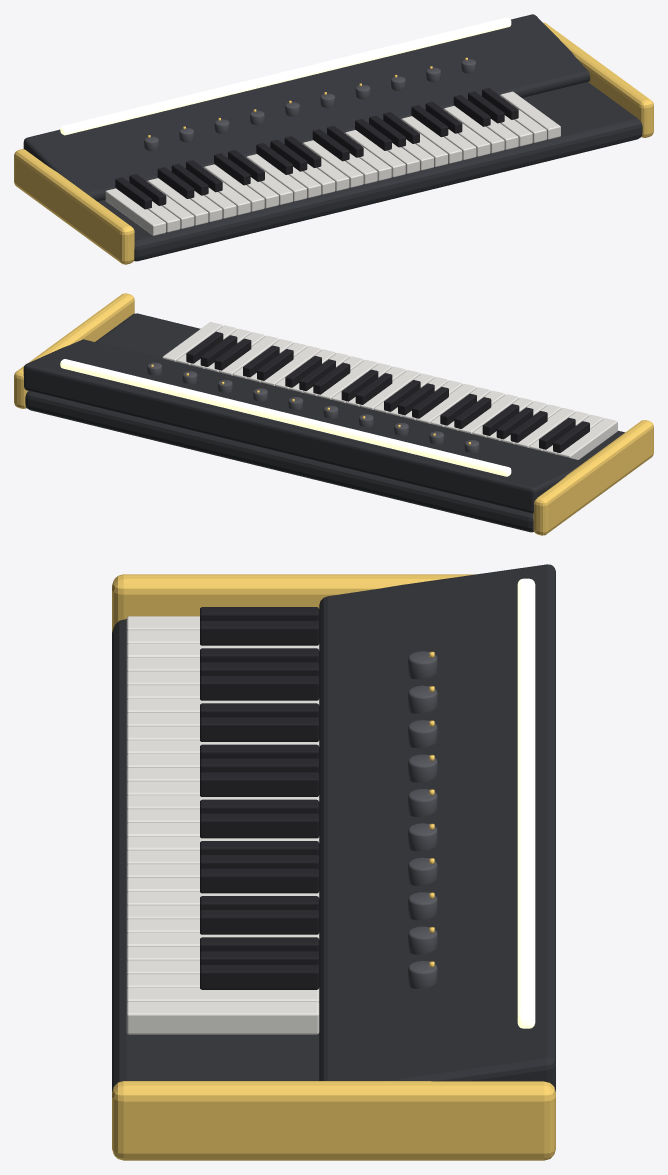
The model's file is Lumen.glb.
3 renders of one model, top to bottom at view 1: azimuth 30°, elevation 25°; view 2: azimuth 150°, elevation 25°; view 3: azimuth 270°, elevation 25°, orthographic. The views are drawn at different scales.
Parts seen in each view (by area): view 1: Lumen_Back, Lumen_Base, Lumen_Cap-1, Lumen_Lightbar, Lumen_Cap1, Lumen_W0, Lumen_W28, Lumen_W3, Lumen_W7, Lumen_W14, Lumen_W17, Lumen_W24 (+42 smaller); view 2: Lumen_Back, Lumen_Base, Lumen_Cap-1, Lumen_Lightbar, Lumen_Cap1, Lumen_W0, Lumen_W28, Lumen_W3, Lumen_W21, Lumen_W24, Lumen_W7, Lumen_W10 (+22 smaller); view 3: Lumen_Back, Lumen_Cap1, Lumen_Base, Lumen_Cap-1, Lumen_Lightbar, Lumen_W28, Lumen_B15, Lumen_B19, Lumen_B1, Lumen_B5, Lumen_B8, Lumen_B12 (+42 smaller).
Part boxes in pixels (left/top/right/bottom): Lumen_Back: left=23, top=14, right=590, bottom=201; Lumen_Base: left=97, top=82, right=642, bottom=261; Lumen_Cap-1: left=14, top=149, right=134, bottom=264; Lumen_Lightbar: left=60, top=17, right=511, bottom=135; Lumen_Cap1: left=543, top=22, right=653, bottom=137; Lumen_W0: left=105, top=188, right=165, bottom=235; Lumen_W28: left=500, top=91, right=560, bottom=139; Lumen_W3: left=147, top=178, right=208, bottom=225; Lumen_W7: left=204, top=164, right=264, bottom=211; Lumen_W14: left=303, top=140, right=363, bottom=187; Lumen_W17: left=345, top=130, right=405, bottom=177; Lumen_W24: left=444, top=105, right=504, bottom=153; Lumen_Back: left=23, top=339, right=584, bottom=513; Lumen_Base: left=25, top=313, right=624, bottom=532; Lumen_Cap-1: left=533, top=420, right=653, bottom=535; Lumen_Lightbar: left=60, top=359, right=511, bottom=476; Lumen_Cap1: left=14, top=293, right=134, bottom=408; Lumen_W0: left=557, top=418, right=617, bottom=459; Lumen_W28: left=162, top=322, right=222, bottom=361; Lumen_W3: left=515, top=408, right=575, bottom=447; Lumen_W21: left=261, top=346, right=321, bottom=385; Lumen_W24: left=219, top=335, right=279, bottom=375; Lumen_W7: left=458, top=394, right=519, bottom=433; Lumen_W10: left=416, top=384, right=476, bottom=423; Lumen_Back: left=319, top=564, right=555, bottom=1091; Lumen_Cap1: left=112, top=1081, right=555, bottom=1160; Lumen_Base: left=112, top=619, right=319, bottom=1091; Lumen_Cap-1: left=112, top=574, right=475, bottom=632; Lumen_Lightbar: left=517, top=578, right=535, bottom=1028; Lumen_W28: left=126, top=1001, right=319, bottom=1034; Lumen_B15: left=200, top=813, right=319, bottom=838; Lumen_B19: left=200, top=868, right=319, bottom=893; Lumen_B1: left=200, top=621, right=319, bottom=645; Lumen_B5: left=200, top=676, right=319, bottom=700; Lumen_B8: left=200, top=717, right=319, bottom=741; Lumen_B12: left=200, top=772, right=319, bottom=796.
Size of the model in its own units: 0.832 by 0.081 by 0.3.
